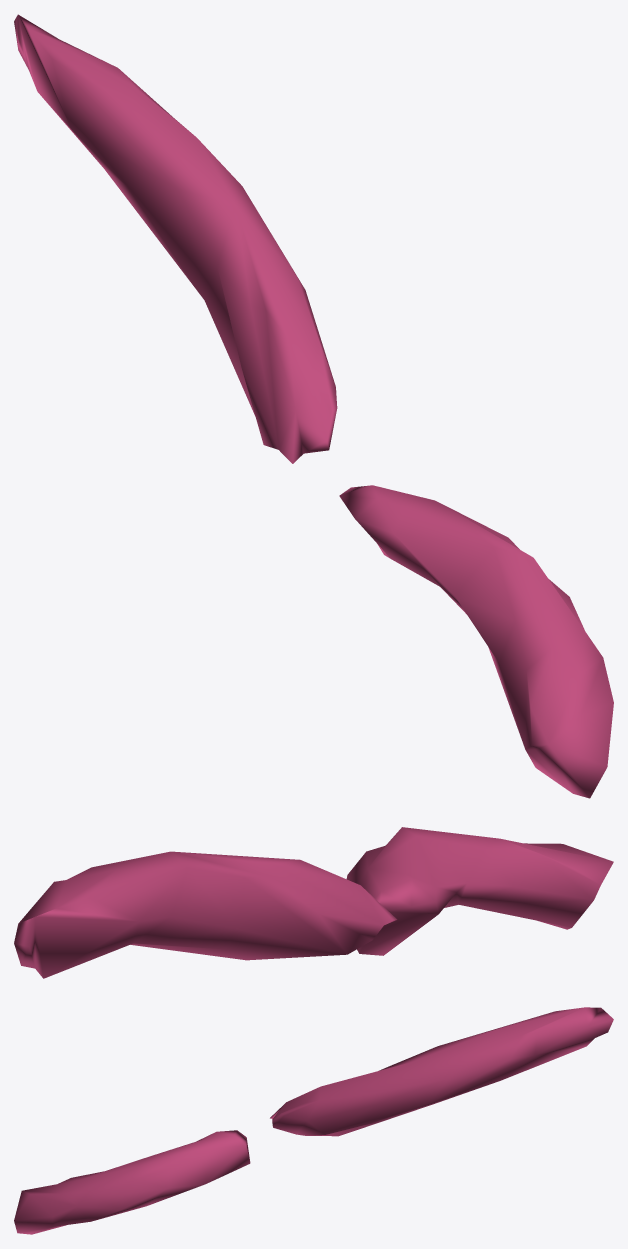
3 views of the same model, one above another, from view 1: azimuth 30°, elevation 25°; view 2: azimuth 150°, elevation 25°; view 3: azimuth 270°, elevation 25° (orthographic). The views are drawn at different scales.
Visible parts, largest first — view 1: 左侧胸棘间肌; view 2: 左侧胸棘间肌; view 3: 左侧胸棘间肌.
Boxes of the visible parts, bbox=[...] form: 左侧胸棘间肌: bbox=[14, 14, 613, 798]; 左侧胸棘间肌: bbox=[14, 827, 613, 978]; 左侧胸棘间肌: bbox=[14, 1007, 613, 1234].
Size of the model in its own units: 0.0104 by 0.0266 by 0.0661.
